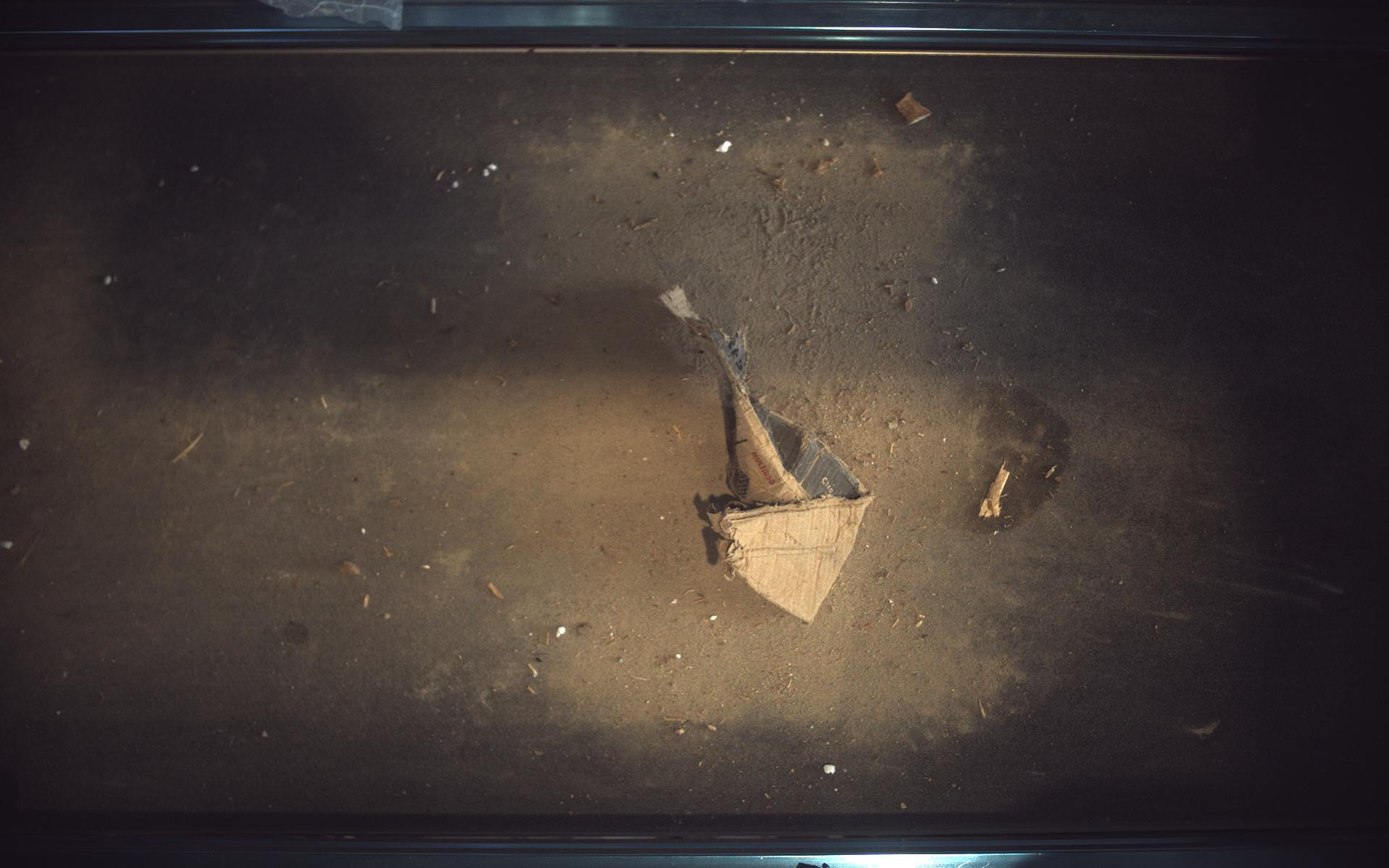general_w: (661, 286, 875, 623)
